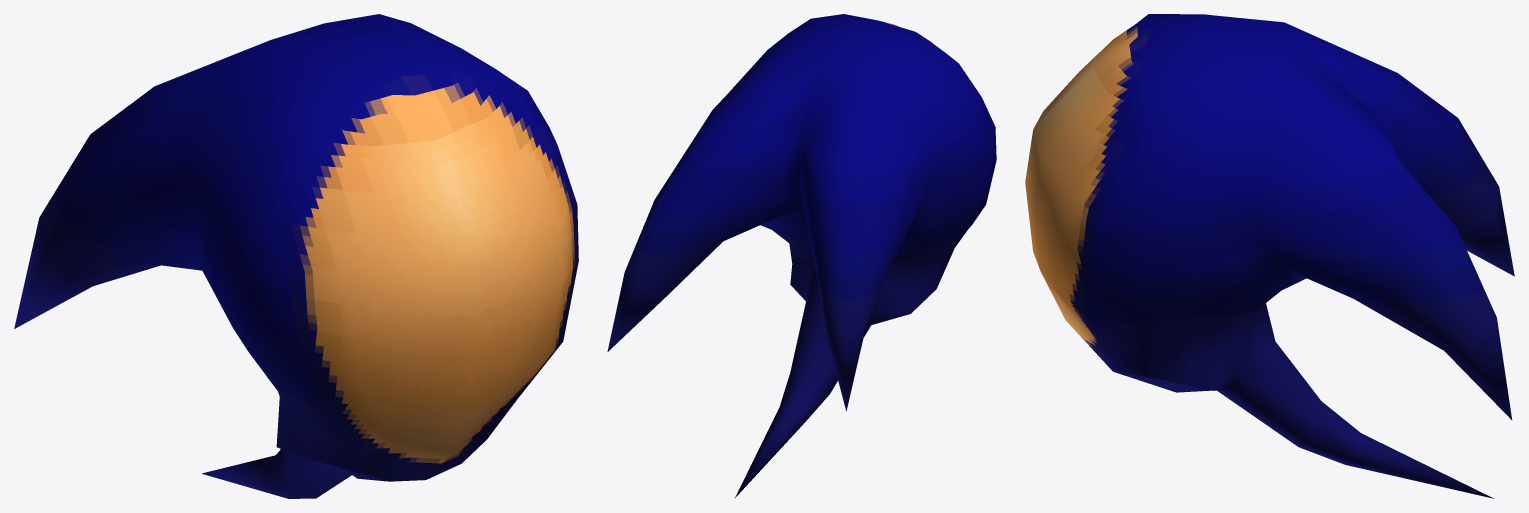
The model's file is sonic_corpo.glb.
The picture shows the model from 3 angles, left to right: view 1: azimuth 30°, elevation 25°; view 2: azimuth 150°, elevation 25°; view 3: azimuth 270°, elevation 25°; orthographic projection. The views are drawn at different scales.
Parts seen in each view (by area): view 1: Sonic; view 2: Sonic; view 3: Sonic.
Part boxes in pixels (x1,y1,x2,y2): Sonic: (14,14,578,498); Sonic: (607,14,996,497); Sonic: (1025,14,1514,498).
Bounding box in the file's own units: 0.9864 × 1.49 × 1.42.
1 material, 1 textured.
